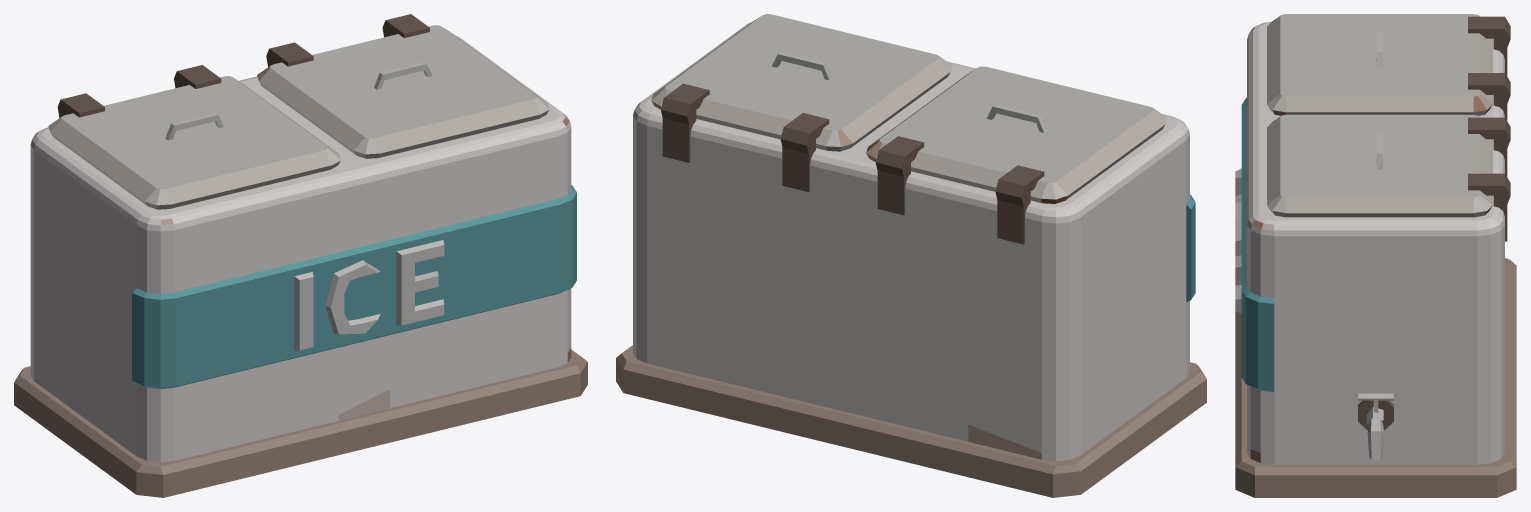
Rendered from ice-chest-83c9ed.glb.
3 views of the same model, side by side, from view 1: azimuth 30°, elevation 25°; view 2: azimuth 150°, elevation 25°; view 3: azimuth 270°, elevation 25° (orthographic). The views are drawn at different scales.
Parts seen in each view (by area): view 1: chest, lid-1-mesh, lid-2-mesh; view 2: chest, lid-1-mesh, lid-2-mesh; view 3: chest, lid-2-mesh, lid-1-mesh.
Part boxes in pixels (x1,y1,x2,y2): chest: (14,28,587,497); lid-1-mesh: (48,65,340,209); lid-2-mesh: (257,14,549,158); chest: (616,21,1206,497); lid-1-mesh: (866,66,1167,203); lid-2-mesh: (651,14,952,151); chest: (1235,21,1516,497); lid-2-mesh: (1267,114,1510,217); lid-1-mesh: (1267,14,1510,115).
Bounding box in the file's own units: 1.43 × 0.8379 × 0.72.
